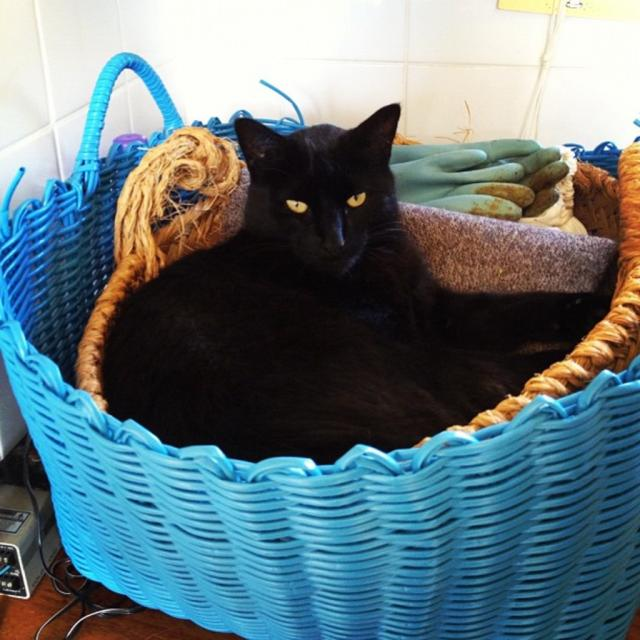Cat: (93, 99, 480, 462)
